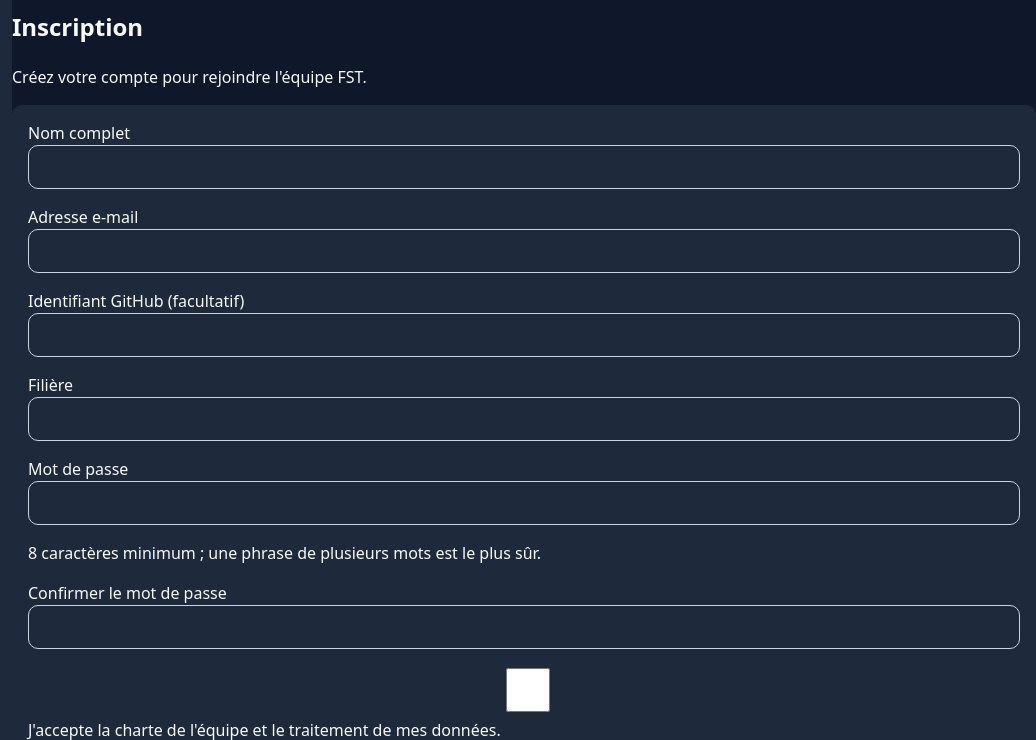
Inscription › signale des mots de passe différents
In the field labelled "Nom complet": x=524, y=167 [28,145,1020,189], type "Aïcha Mint Ahmed"
In the field labelled "Adresse e-mail": x=524, y=251 [28,229,1020,273], type "aicha@example.com"
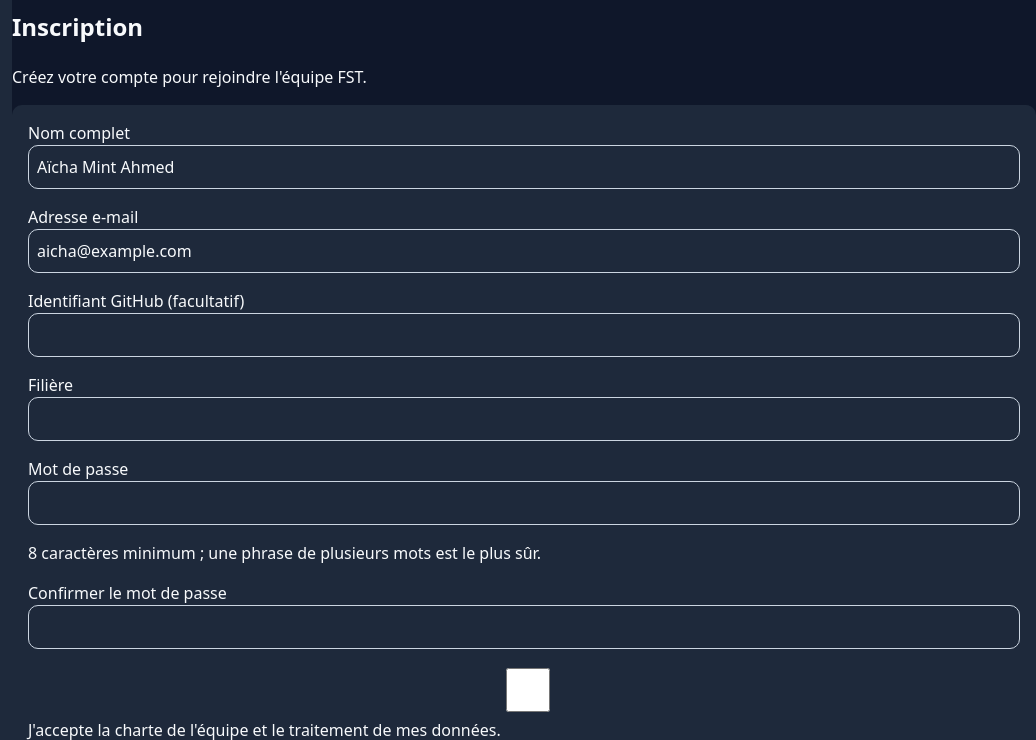
In the password field labelled "Mot de passe": x=524, y=503 [28,481,1020,525], type "sable-dromadaire-7-lune"
(page scrolled)
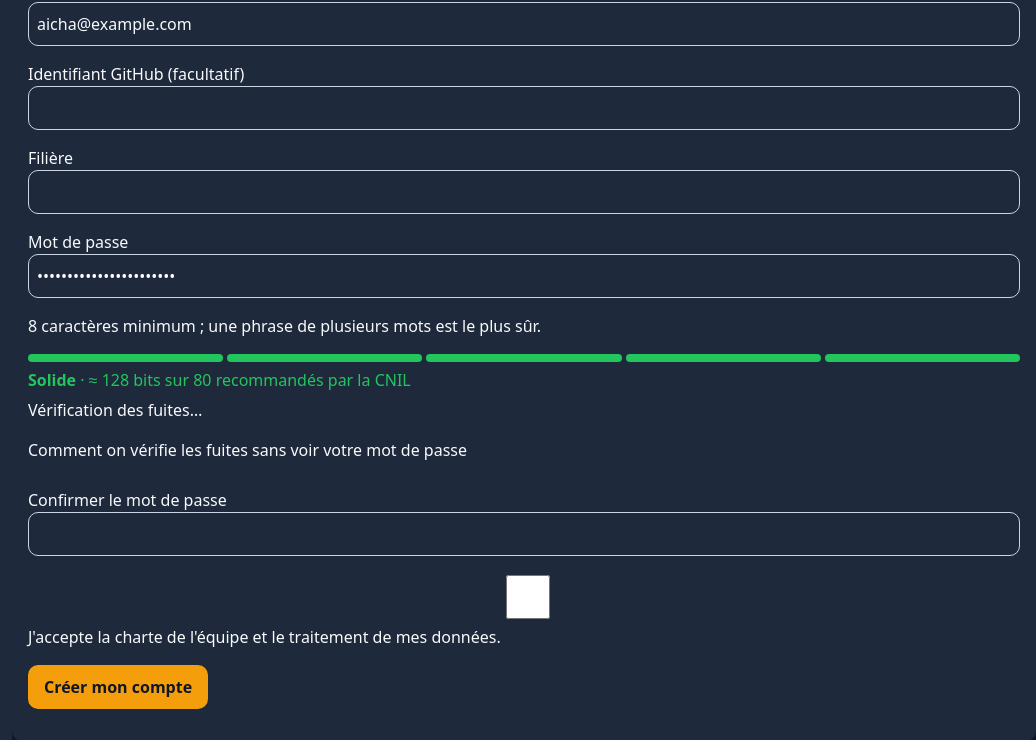
In the password field labelled "Confirmer le mot de passe": x=524, y=534 [28,512,1020,556], type "sable-dromadaire-7-lune"
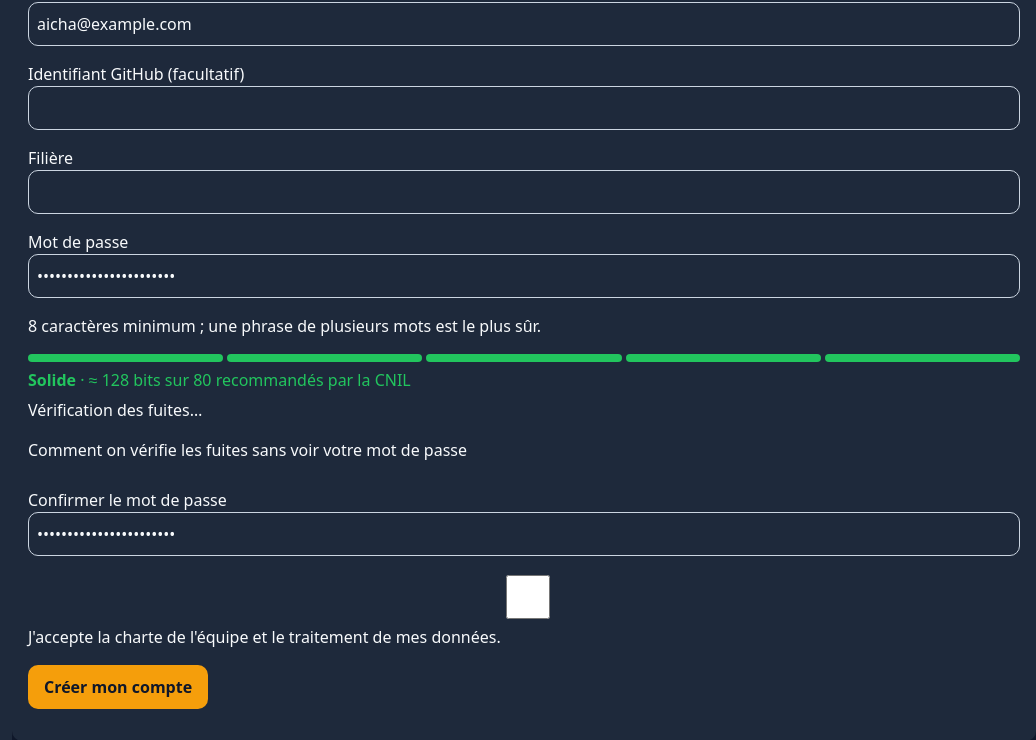
Click the checkbox labelled "J'accepte la charte": x=528, y=597 [32,575,1024,619]
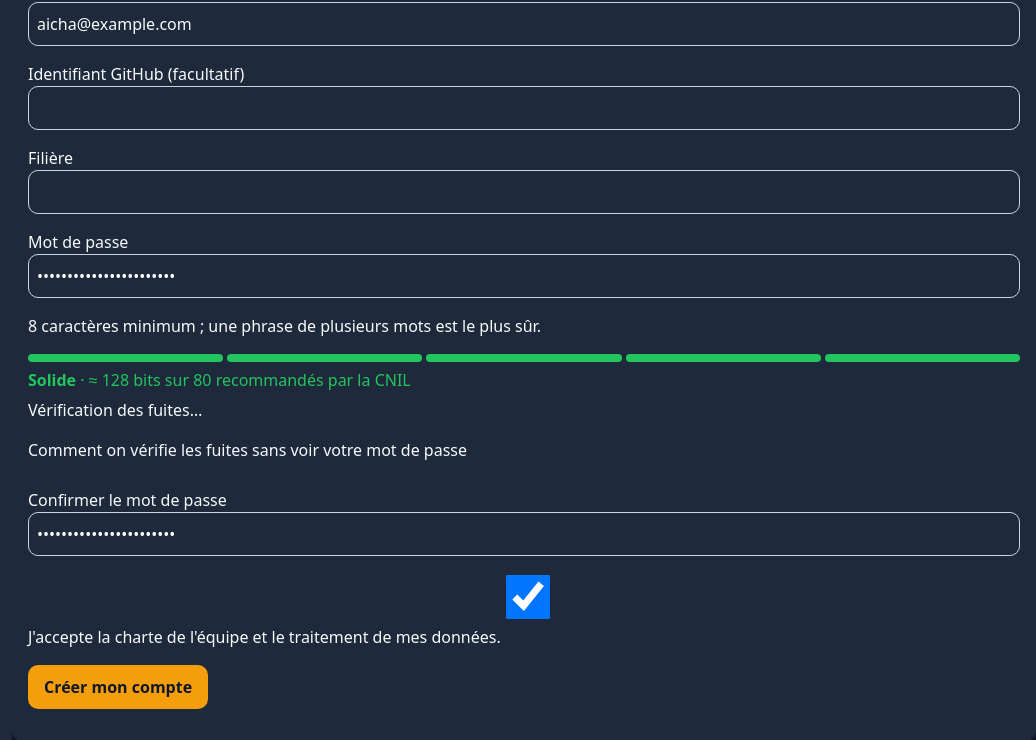
In the password field labelled "Confirmer le mot de passe": x=524, y=534 [28,512,1020,556], type "autre12345"
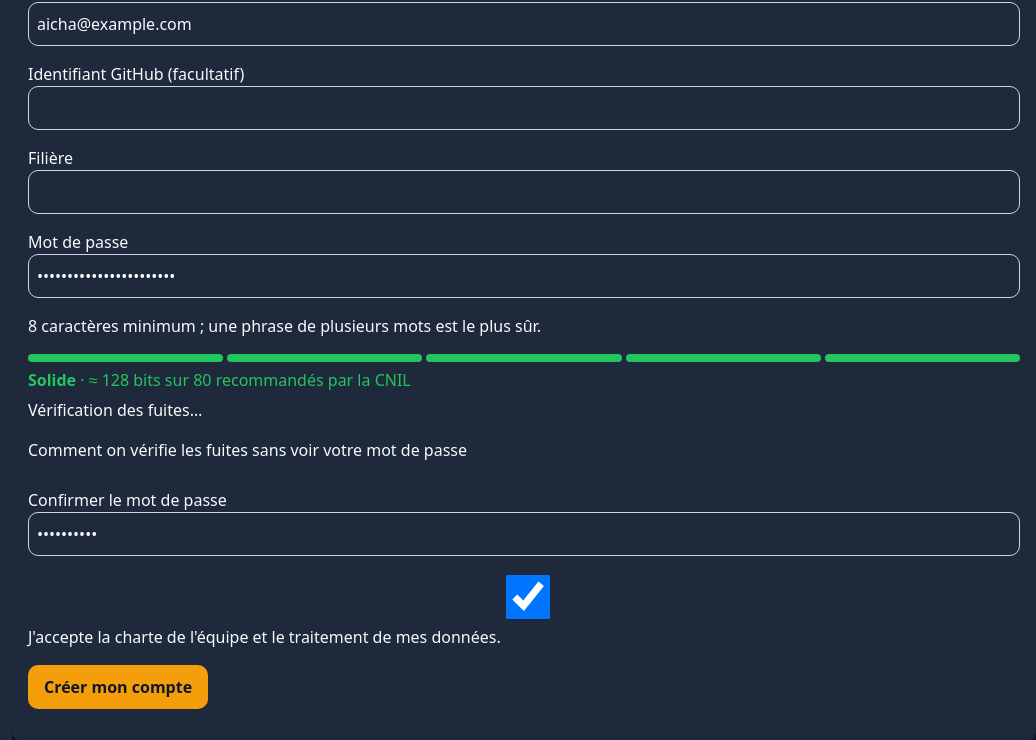
Click the button "Créer mon compte": x=118, y=687 [28,665,208,709]
(page scrolled)
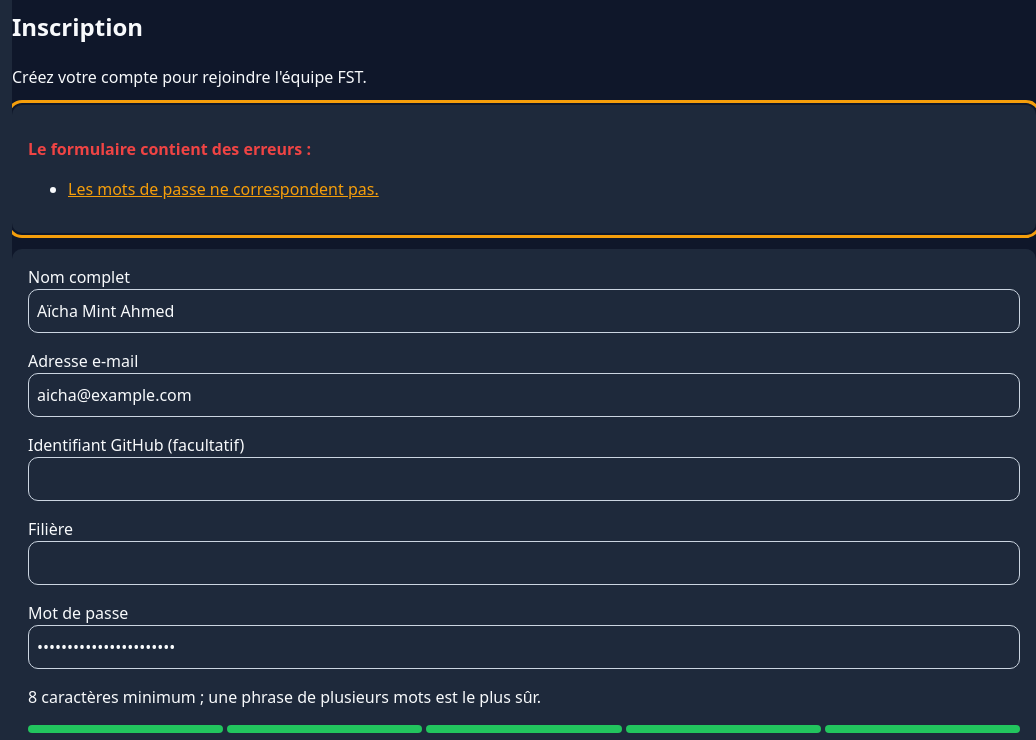
Check: the link "Les mots de passe ne correspondent pas." is shown, box [68,178,379,200]
